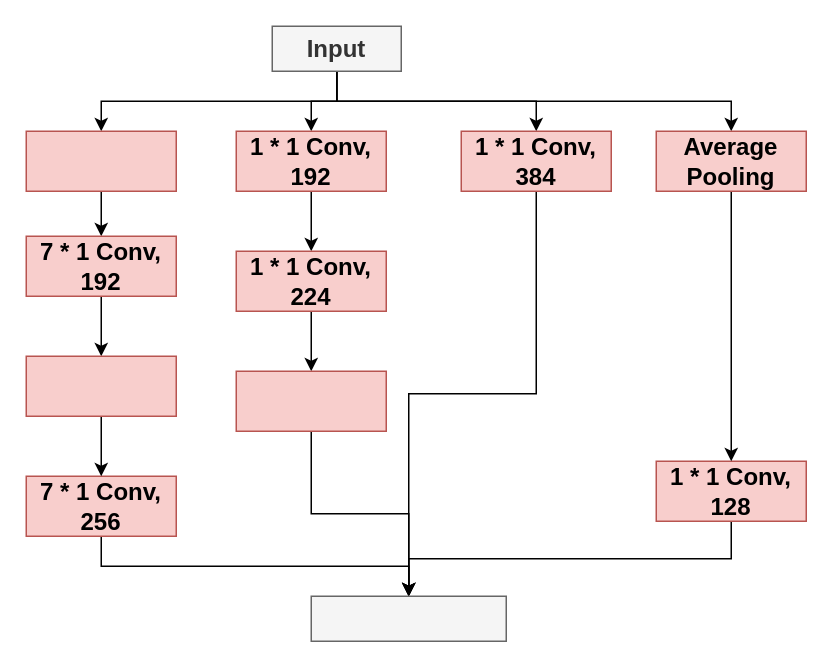
The diagram is 833 pixels wide and 668 high, and some of its shapes have lost their labels. Here are the shapes that lost their labels. From the top down, the centre of each, then its label:
At (100,160): "1 * 7 Conv, 192".
At (100,385): "1 * 7 Conv, 224".
At (310,400): "1 * 7 Conv, 256".
At (408,618): "Concatenate".
